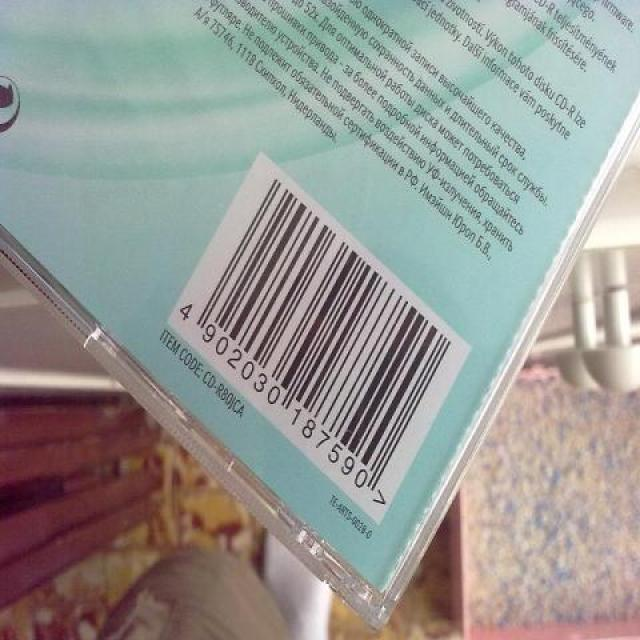Barcode: (163, 148, 472, 528)
